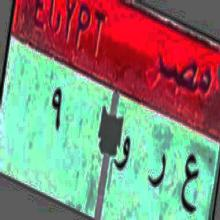9: (48, 77, 65, 144)
ain: (178, 142, 199, 220)
raa: (147, 142, 167, 197)
waw: (112, 124, 132, 187)
